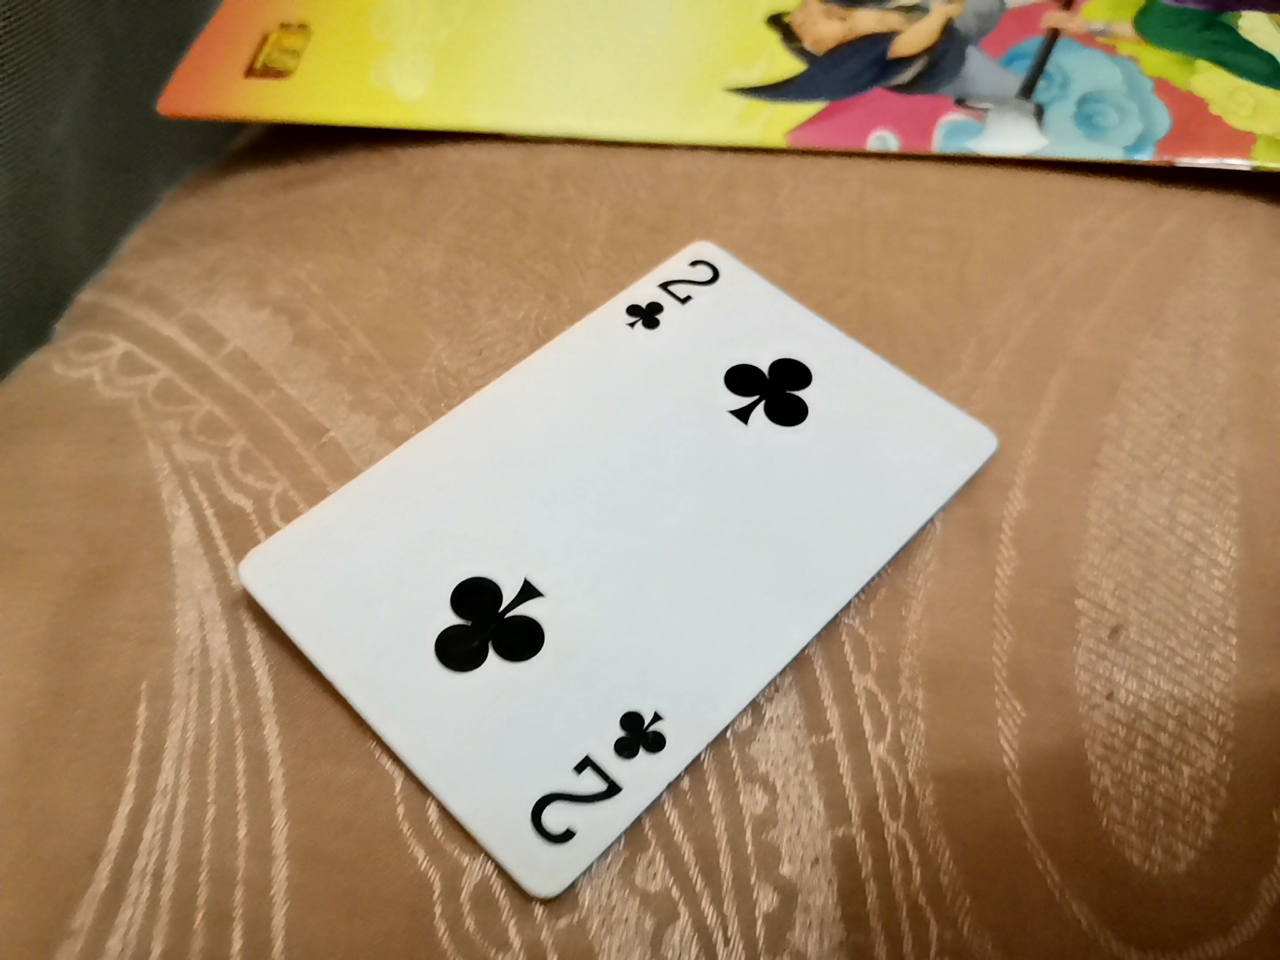mh 2: (208, 230, 972, 905)
